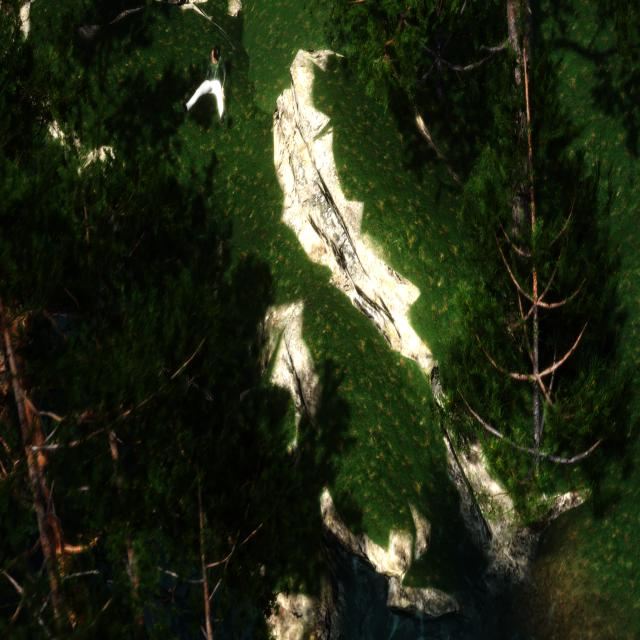Human: (184, 39, 231, 129)
